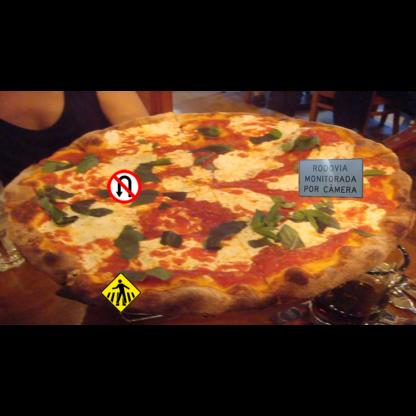A-32b: (100, 272, 141, 313)
I-E: (298, 158, 363, 199)
R-5a: (107, 170, 141, 203)
